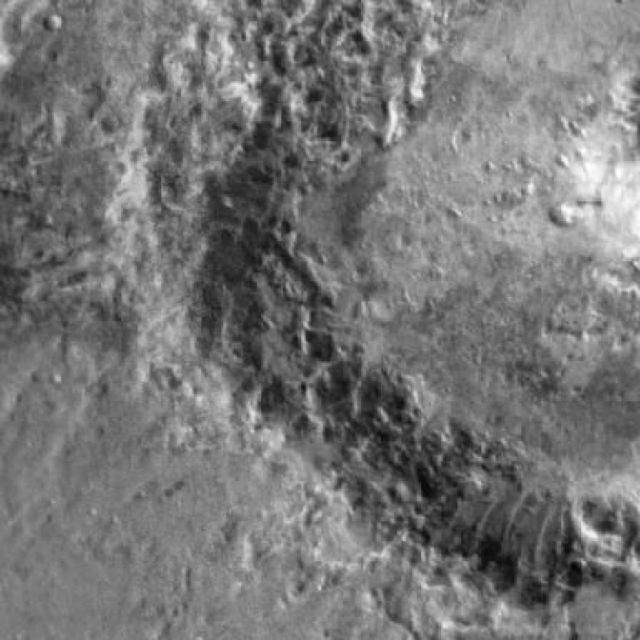crater: (223, 0, 640, 598), (0, 0, 363, 294), (56, 8, 76, 24)
